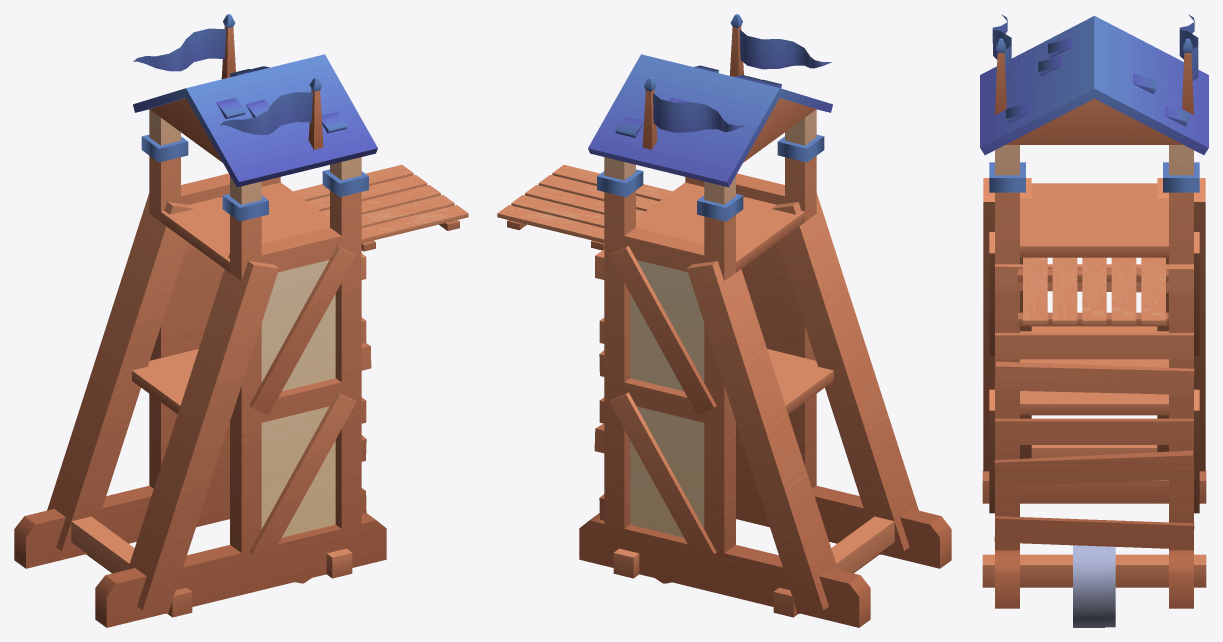
The model's file is siege-tower.glb.
3 renders of one model, left to right at view 1: azimuth 30°, elevation 25°; view 2: azimuth 150°, elevation 25°; view 3: azimuth 270°, elevation 25°, orthographic. The views are drawn at different scales.
Visible parts, largest first — view 1: siege-tower; view 2: siege-tower; view 3: siege-tower, siege-tower.003, siege-tower.001.
Part boxes in pixels (x1,y1,x2,y2): siege-tower: (14, 14, 468, 627); siege-tower: (497, 14, 951, 627); siege-tower: (980, 14, 1208, 608); siege-tower.003: (1073, 545, 1104, 627); siege-tower.001: (1105, 546, 1115, 627).
Bounding box in the file's own units: 9.83 × 13.4 × 4.83.
1 material, 1 textured.
